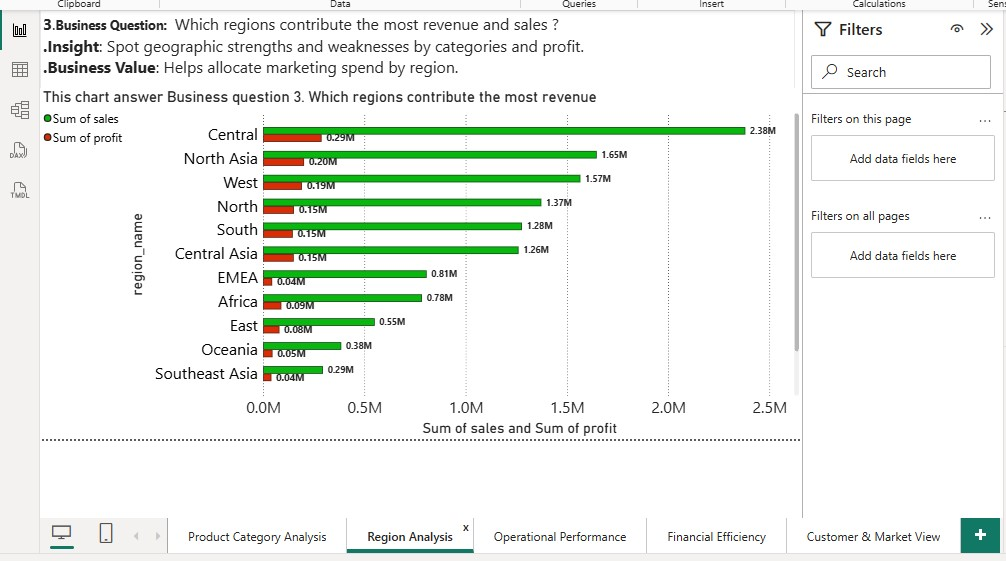

What the dashboard file says about the page in this screenshot:
{"tool":"powerbi","page":{"name":"Region Analysis","canvas":[1280,720],"ordinal":1},"visuals":[{"type":"textbox","box":[0,0,1268.2,176.4],"z":0},{"type":"clusteredBarChart","title":"This chart answer Business question 3. Which regions contribute the most revenue","fields":{"Category":["Customers.region_name"],"Y":["Sum(OrderDetails.sales)","Sum(OrderDetails.profit)"]},"box":[0,131,1280,589.6],"z":2000}]}

Visuals, with their boxes on the page's 1280x720 design canvas (x1, y1, x2, y2). These are canvas units, not pixel positions in the 1006x561 screenshot, which may show the page scaled, cropped or inside an application window:
textbox: 0/0/1268/176
"This chart answer Business question 3. Which regions contribute the most revenue" clusteredBarChart: 0/131/1280/721
